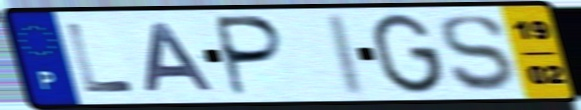A: (142, 20, 220, 94)
G: (369, 11, 447, 97)
I: (327, 11, 371, 98)
L: (62, 21, 138, 95)
P: (215, 14, 289, 99)
S: (436, 12, 517, 94)
